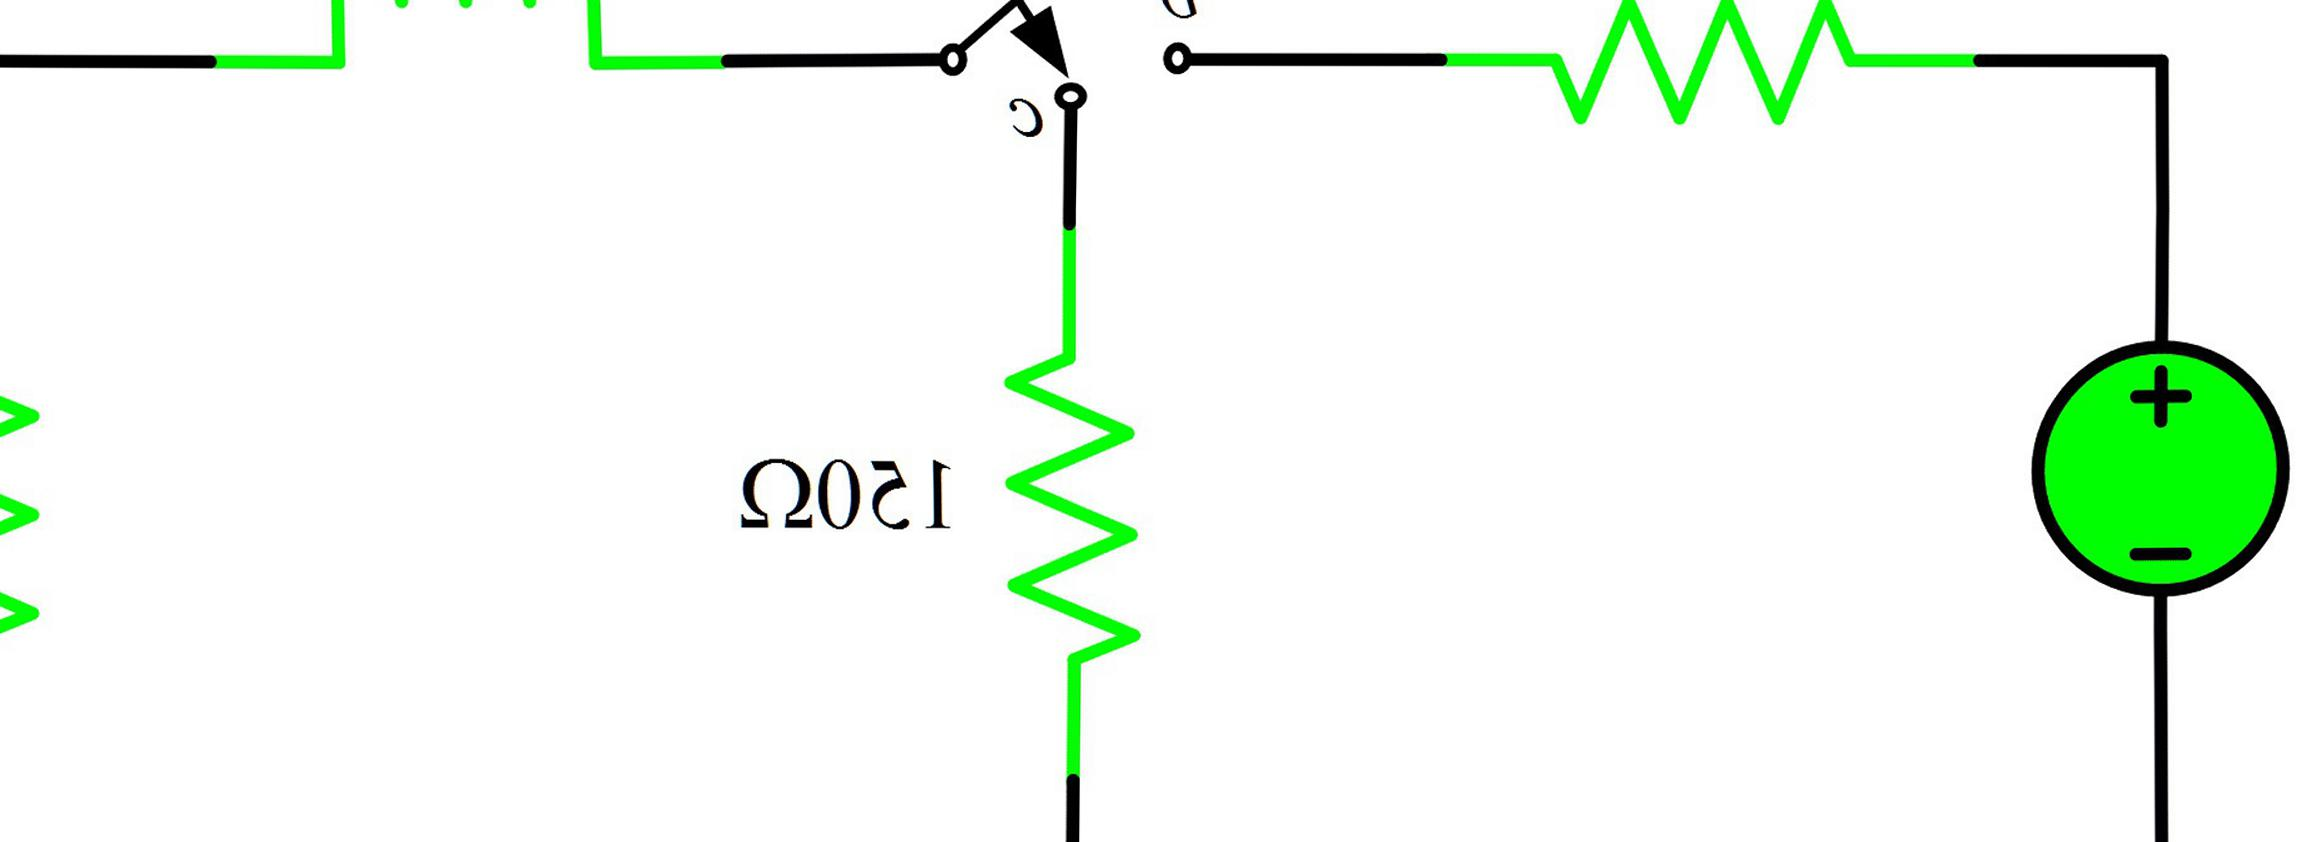Battery: (1988, 263, 2320, 647)
